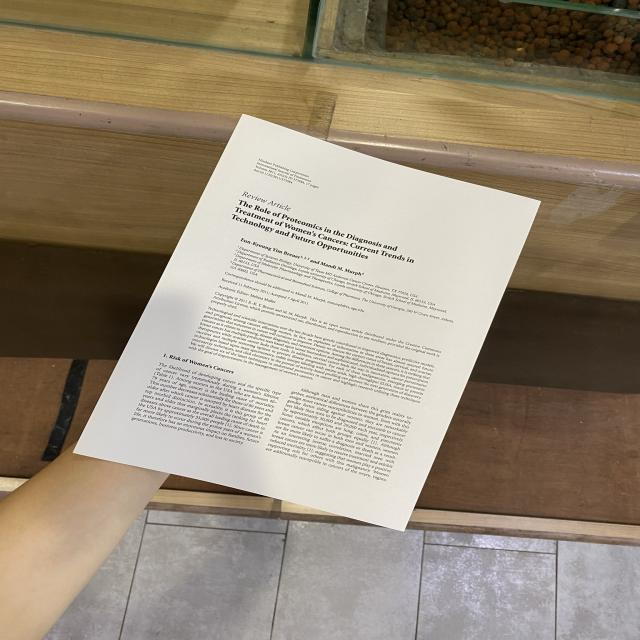document: (77, 115, 538, 530)
